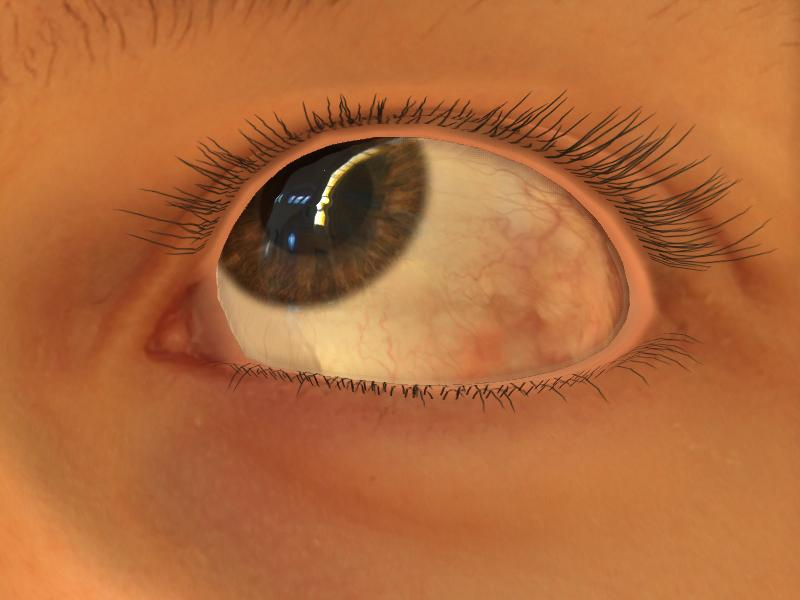eye: (220, 137, 432, 310)
